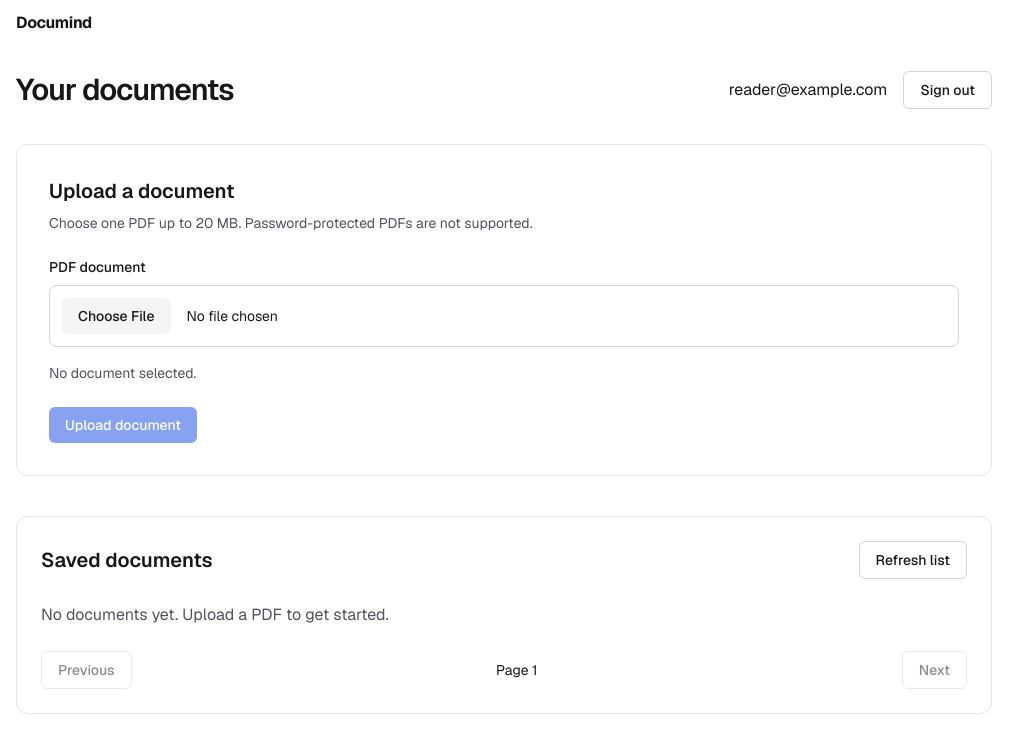
Test: keeps sign-out retryable after server failure
The width and height of the screenshot is (1009, 752).
Click the button "Sign out" at [948, 90], box [903,70,992,108]
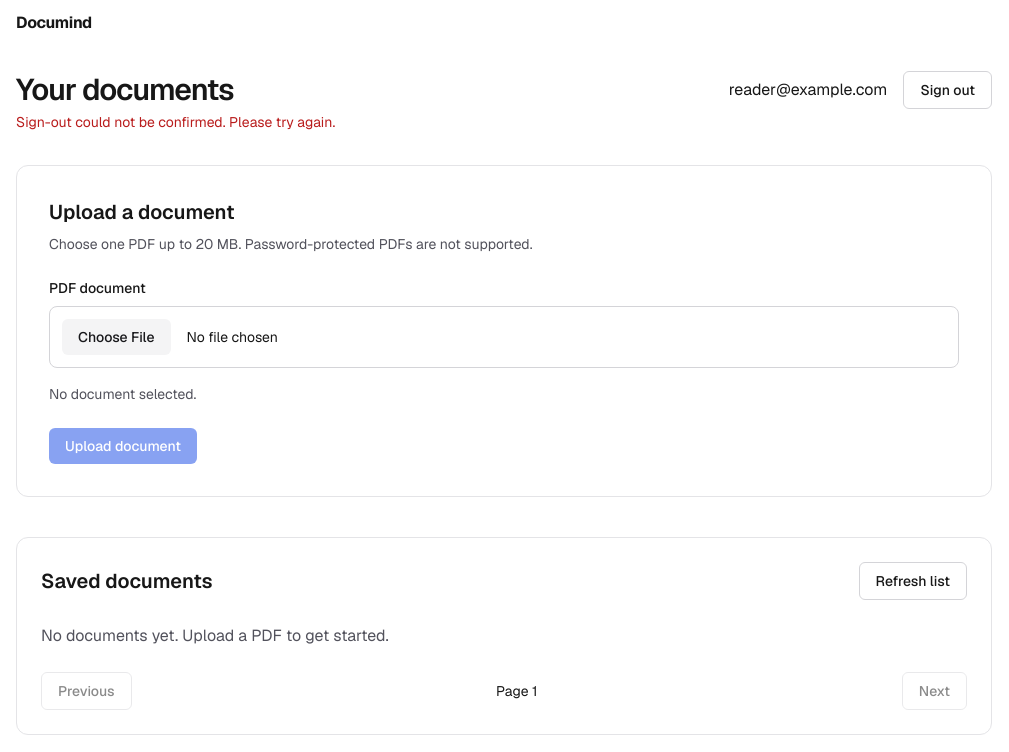
Now the message "Sign-out could not be confirmed. Please try again." is shown, box [16,113,335,131]
